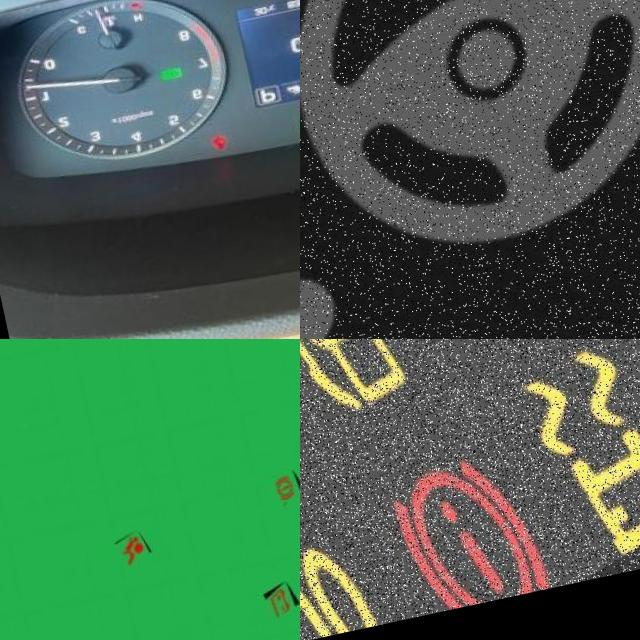Electronic Power Steering: (300, 0, 640, 339)
